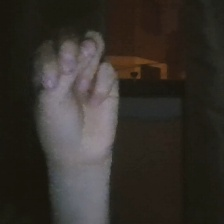N: (21, 20, 130, 177)
